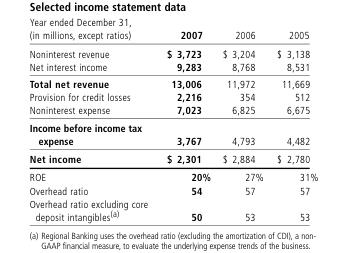table: (28, 28, 317, 222)
table column: (28, 28, 156, 222), (156, 28, 215, 222), (215, 28, 269, 222), (269, 28, 317, 222)
table column header: (28, 28, 317, 43)
table row: (28, 118, 317, 149), (28, 196, 317, 222), (28, 149, 317, 167), (28, 43, 317, 59), (28, 102, 317, 118), (28, 167, 317, 183), (28, 28, 317, 43), (28, 59, 317, 74), (28, 74, 317, 89), (28, 89, 317, 102), (28, 183, 317, 196)
